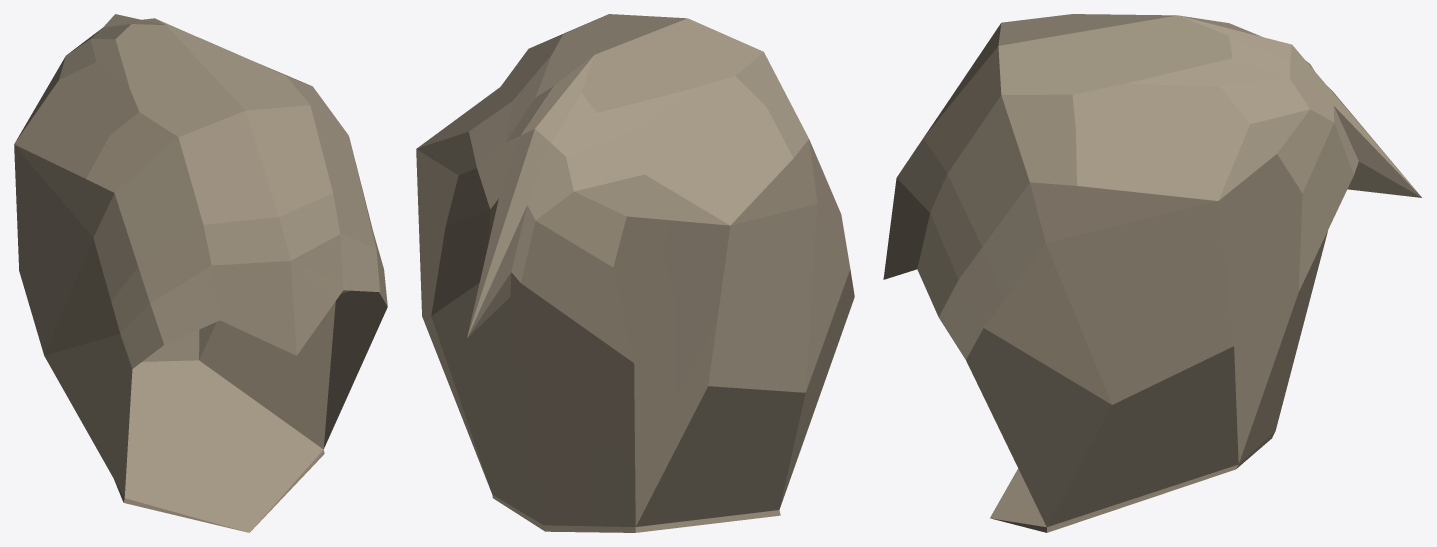
The model's file is Casco de mago.fbx.
The picture shows the model from 3 angles, left to right: view 1: azimuth 30°, elevation 25°; view 2: azimuth 150°, elevation 25°; view 3: azimuth 270°, elevation 25°; orthographic projection. The views are drawn at different scales.
Parts seen in each view (by area): view 1: Cube.001; view 2: Cube.001; view 3: Cube.001.
Part boxes in pixels (x1,y1,x2,y2): Cube.001: (14, 14, 387, 532); Cube.001: (416, 14, 854, 532); Cube.001: (883, 14, 1421, 532).
Bounding box in the file's own units: 49.6 × 70.21 × 68.12.
